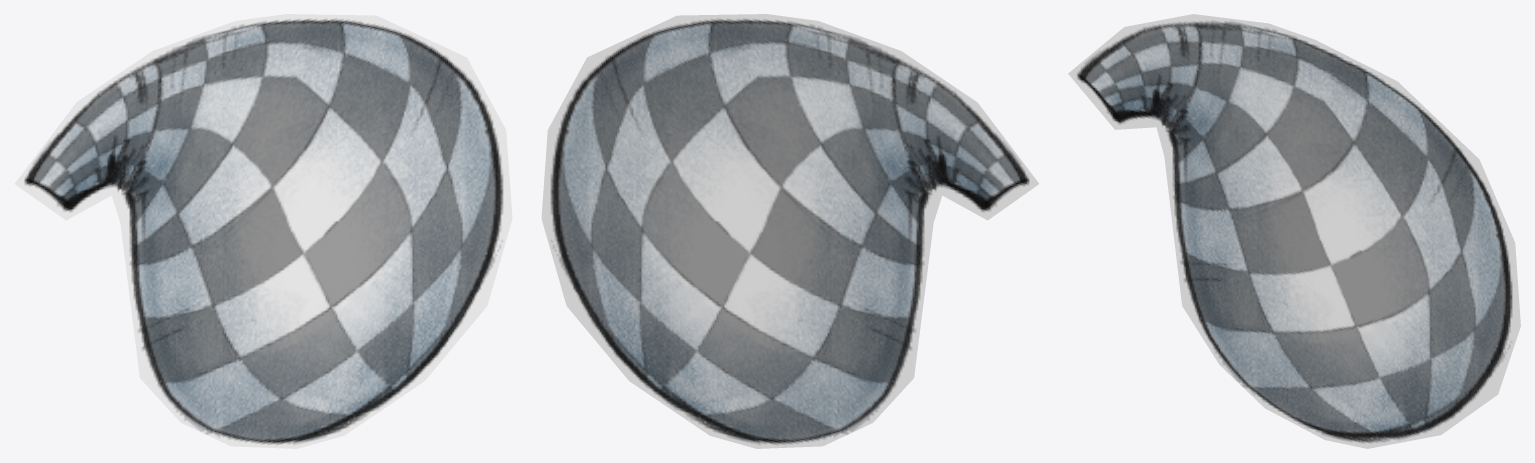
3 renders of one model, left to right at view 1: azimuth 30°, elevation 25°; view 2: azimuth 150°, elevation 25°; view 3: azimuth 330°, elevation 25°, orthographic. The views are drawn at different scales.
Visible parts, largest first — view 1: Plane; view 2: Plane; view 3: Plane.
Boxes of the visible parts, x1=… form: Plane: x1=15, y1=14, x2=512, y2=448; Plane: x1=541, y1=14, x2=1038, y2=448; Plane: x1=1068, y1=14, x2=1520, y2=448.
Bounding box in the file's own units: 3.7 × 3.14 × 0.
Materials: 1 (1 with a texture image).
